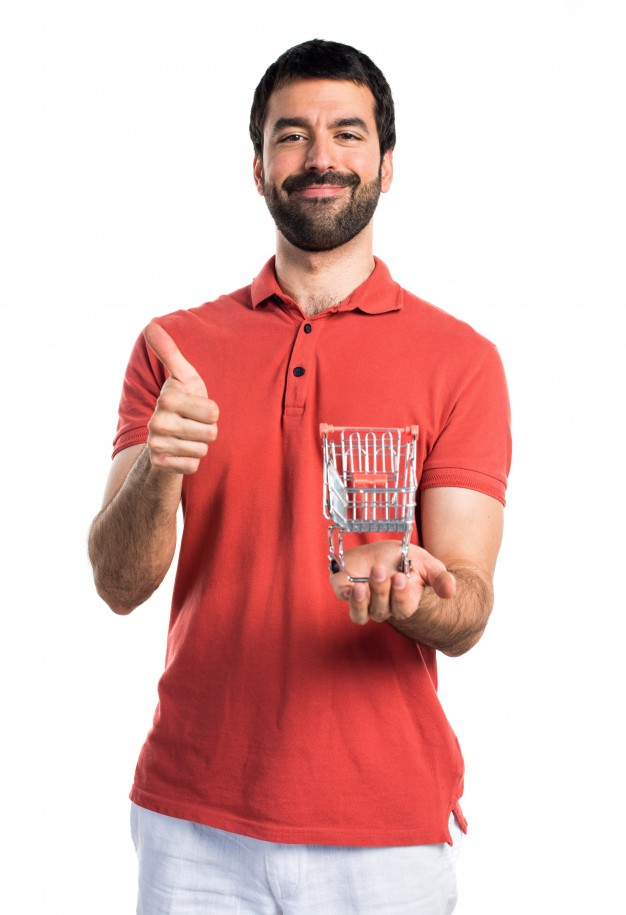thumbsup: (144, 324, 220, 475)
